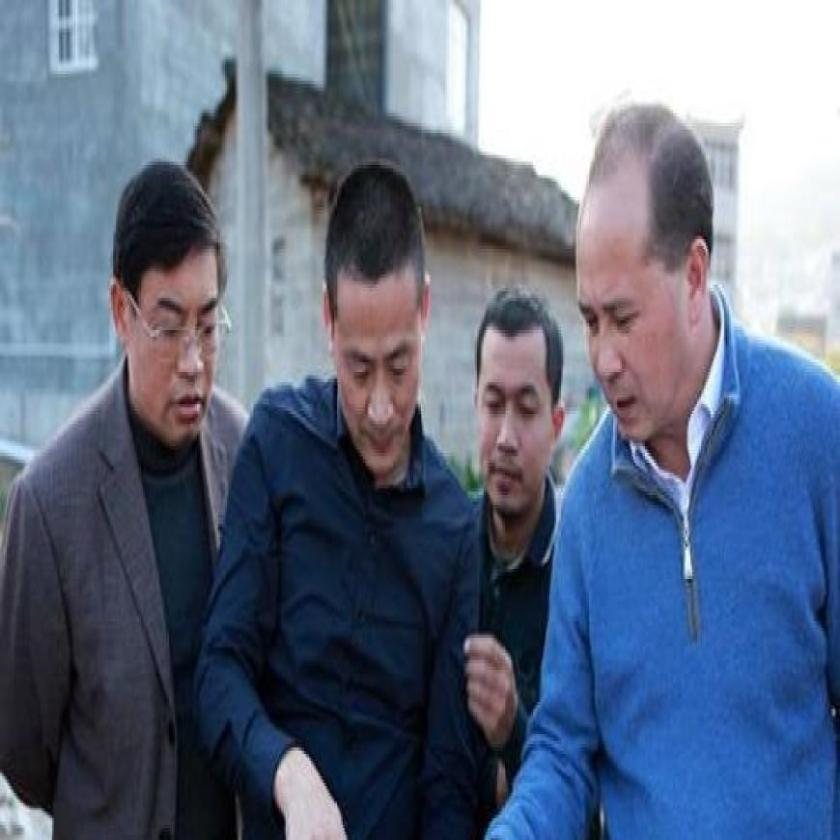Sin_casco: (574, 98, 719, 442), (106, 156, 228, 457), (322, 152, 428, 494), (471, 286, 568, 528)
